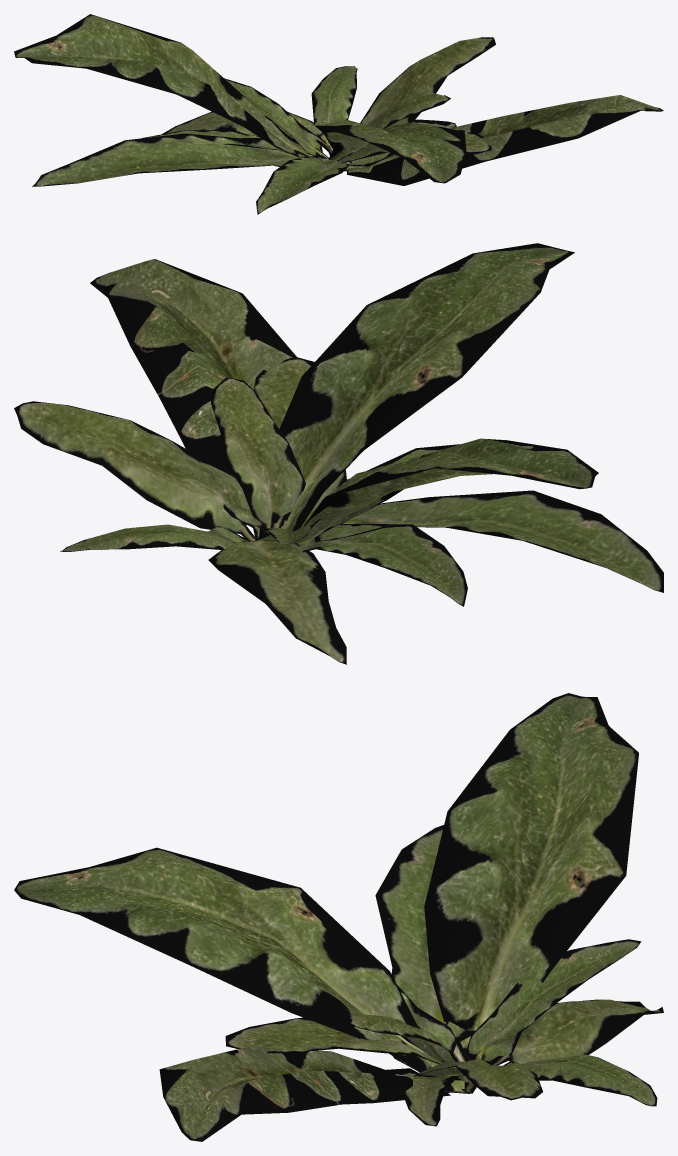
The model's file is flower_gazania_07.glb.
The picture shows the model from 3 angles, top to bottom: view 1: azimuth 30°, elevation 25°; view 2: azimuth 150°, elevation 25°; view 3: azimuth 270°, elevation 25°; orthographic projection. The views are drawn at different scales.
Parts seen in each view (by area): view 1: flower_gazania; view 2: flower_gazania; view 3: flower_gazania.
Boxes of the visible parts, box(x1,y1,x2,y2) form: flower_gazania: box(14, 14, 663, 214); flower_gazania: box(14, 243, 663, 664); flower_gazania: box(14, 693, 663, 1141).
Bounding box in the file's own units: 0.2409 × 0.0685 × 0.186.
1 material, 1 textured.
